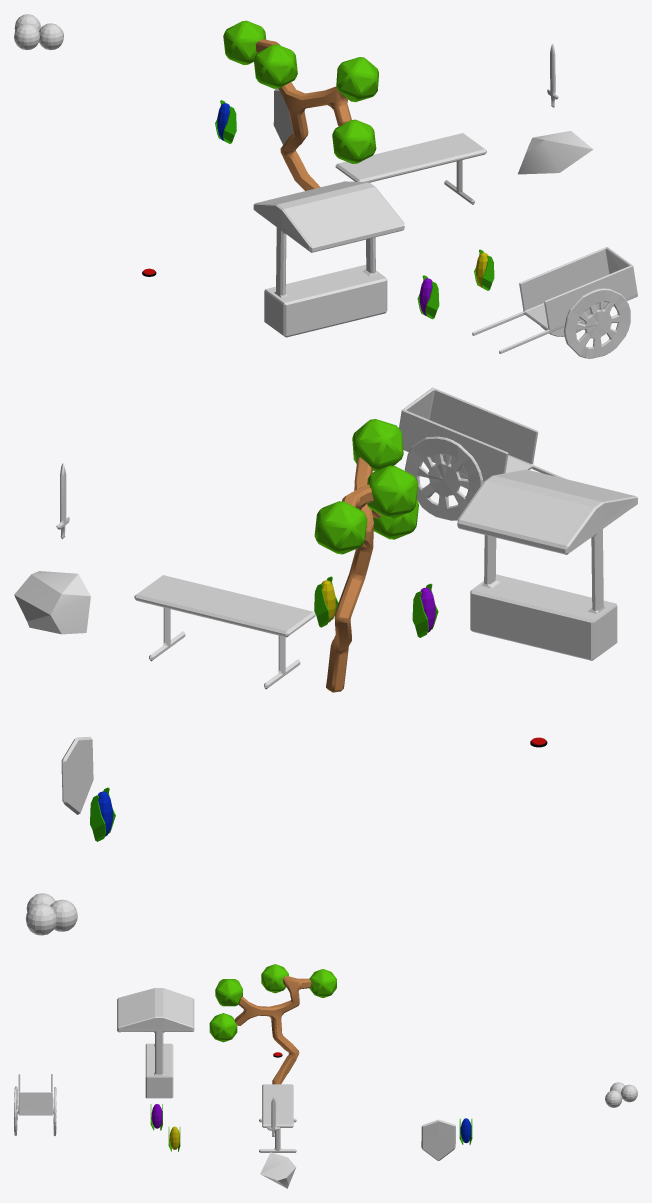
File: Alles.fbx
3 renders of one model, top to bottom at view 1: azimuth 30°, elevation 25°; view 2: azimuth 150°, elevation 25°; view 3: azimuth 270°, elevation 25°, orthographic. The views are drawn at different scales.
Visible parts, largest first — view 1: kraam, kar, Boom, bankje, steen, Sphere, Schild, MaisBlauw, MaisPaars, Maisgeel; view 2: kraam, kar, Boom, bankje, steen, Schild, Sphere, MaisBlauw, MaisPaars, Maisgeel; view 3: kraam, Boom, bankje, kar, Schild, steen, Sphere, MaisBlauw.
Part boxes in pixels (x1,y1,x2,y2): kraam: (253, 181, 404, 337); kar: (472, 247, 637, 358); Boom: (223, 20, 378, 190); bankje: (335, 133, 486, 204); steen: (518, 130, 593, 174); Sphere: (14, 14, 63, 50); Schild: (273, 88, 302, 144); MaisBlauw: (215, 100, 236, 143); MaisPaars: (417, 275, 439, 319); Maisgeel: (474, 249, 494, 290); kraam: (457, 469, 637, 660); kar: (399, 387, 565, 520); Boom: (314, 419, 418, 692); bankje: (134, 575, 315, 689); steen: (14, 571, 90, 634); Schild: (61, 736, 93, 814); Sphere: (25, 893, 77, 935); MaisBlauw: (90, 787, 115, 841); MaisPaars: (412, 583, 438, 637); Maisgeel: (314, 576, 338, 627); kraam: (117, 988, 194, 1098); Boom: (209, 964, 336, 1084); bankje: (259, 1084, 296, 1152); kar: (14, 1074, 56, 1136); Schild: (421, 1119, 455, 1160); steen: (260, 1152, 296, 1188); Sphere: (605, 1082, 637, 1107); MaisBlauw: (459, 1118, 472, 1144).
Bounding box in the file's own units: 646 × 327 × 1207.
